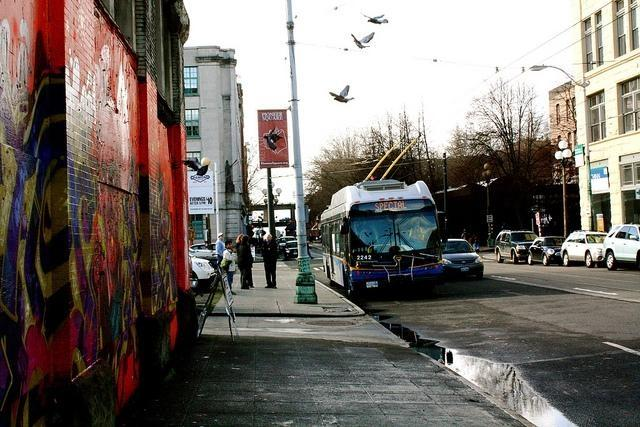bus: (320, 181, 448, 290)
car: (438, 236, 487, 284), (560, 229, 608, 268), (601, 222, 640, 269), (494, 230, 538, 264), (526, 235, 566, 267), (189, 257, 217, 289), (190, 249, 219, 270), (278, 236, 297, 254), (284, 241, 298, 258), (190, 242, 217, 250)
